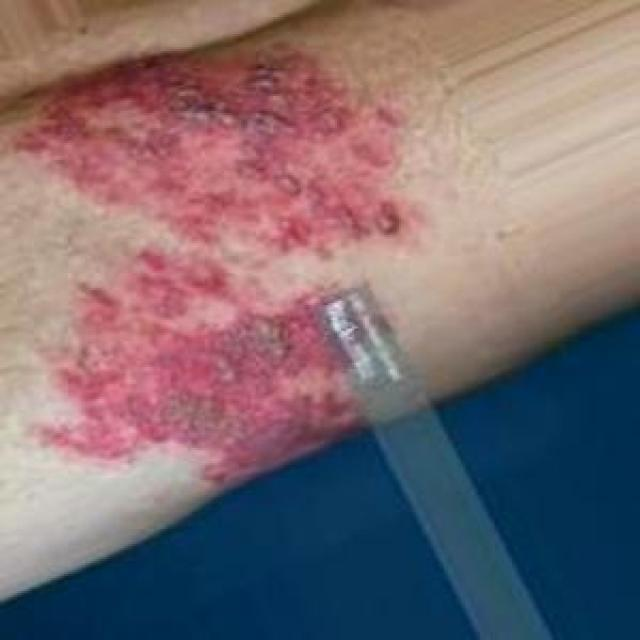Shingles: (46, 239, 368, 475), (22, 58, 401, 248)
